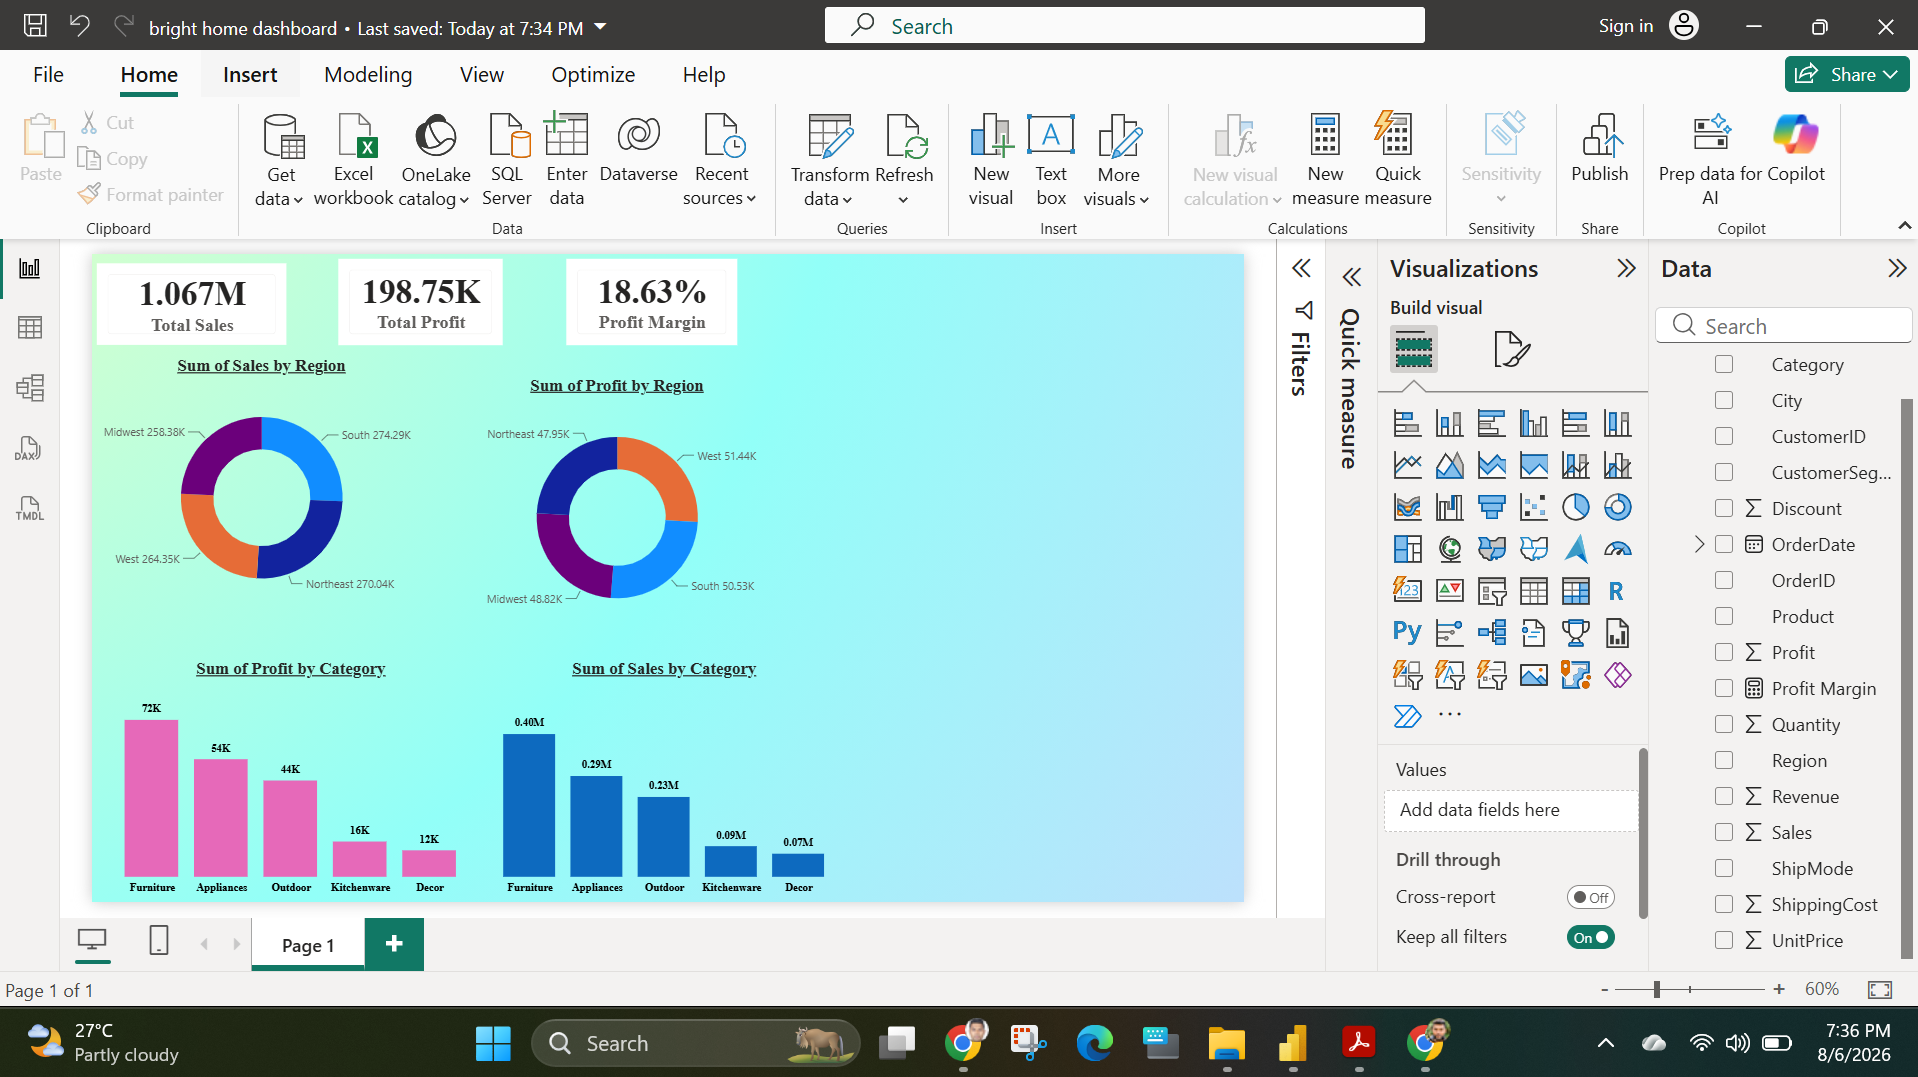

This screenshot's page, from the dashboard's own definition file:
{"tool":"powerbi","page":{"name":"Dashboard 01","canvas":[1280,720],"ordinal":0},"visuals":[{"type":"cardVisual","title":"fffff","fields":{"Data":["Sum(brighthome_dataset.Revenue)"]},"box":[23.9,4.8,221.7,101.7],"z":0},{"type":"cardVisual","title":"fffff","fields":{"Data":["Sum(brighthome_dataset.Profit)"]},"box":[268.3,0,193.3,106.7],"z":1000},{"type":"cardVisual","title":"fffff","fields":{"Data":["brighthome_dataset.Profit Margin"]},"box":[521.7,0,200,106.7],"z":2000},{"type":"donutChart","fields":{"Category":["brighthome_dataset.Region"],"Y":["Sum(brighthome_dataset.Sales)"]},"box":[0,113.3,376.7,283.3],"z":3000},{"type":"donutChart","fields":{"Category":["brighthome_dataset.Region"],"Y":["Sum(brighthome_dataset.Profit)"]},"box":[398.3,135,370,284],"z":4000},{"type":"columnChart","fields":{"Y":["Sum(brighthome_dataset.Sales)"],"Category":["brighthome_dataset.Category"]},"box":[806,128,428.3,270],"z":5000},{"type":"columnChart","fields":{"Category":["brighthome_dataset.Category"],"Y":["Sum(brighthome_dataset.Profit)"]},"box":[0,450,442,270],"z":6000},{"type":"areaChart","fields":{"Category":["brighthome_dataset.Product"],"Y":["Sum(brighthome_dataset.Sales)"]},"box":[442,450,838,270],"z":7000}]}

Visuals, with their boxes on the page's 1280x720 design canvas (x1, y1, x2, y2). These are canvas units, not pixel positions in the 1918x1077 screenshot, which may show the page scaled, cropped or inside an application window:
"fffff" cardVisual: left=24, top=5, right=246, bottom=106
"fffff" cardVisual: left=268, top=0, right=462, bottom=107
"fffff" cardVisual: left=522, top=0, right=722, bottom=107
donutChart - brighthome_dataset.Region x Sum(brighthome_dataset.Sales): left=0, top=113, right=377, bottom=397
donutChart - brighthome_dataset.Region x Sum(brighthome_dataset.Profit): left=398, top=135, right=768, bottom=419
columnChart - Sum(brighthome_dataset.Sales) x brighthome_dataset.Category: left=806, top=128, right=1234, bottom=398
columnChart - brighthome_dataset.Category x Sum(brighthome_dataset.Profit): left=0, top=450, right=442, bottom=720
areaChart - brighthome_dataset.Product x Sum(brighthome_dataset.Sales): left=442, top=450, right=1280, bottom=720
